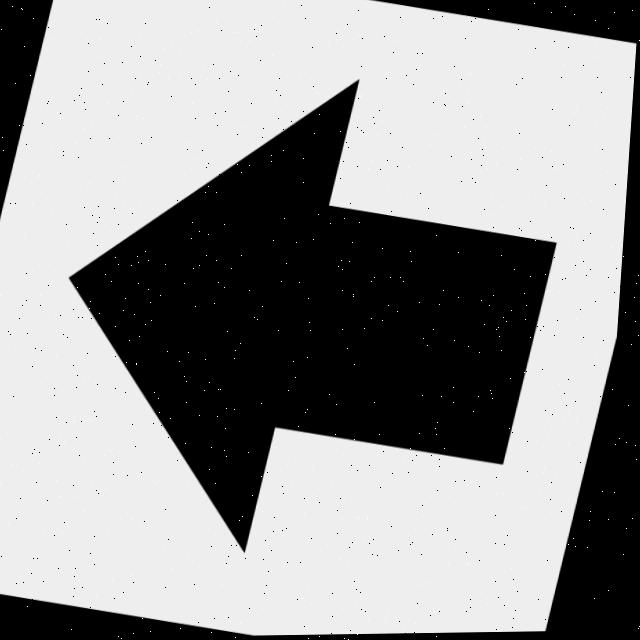LEFT: (74, 84, 558, 544)
